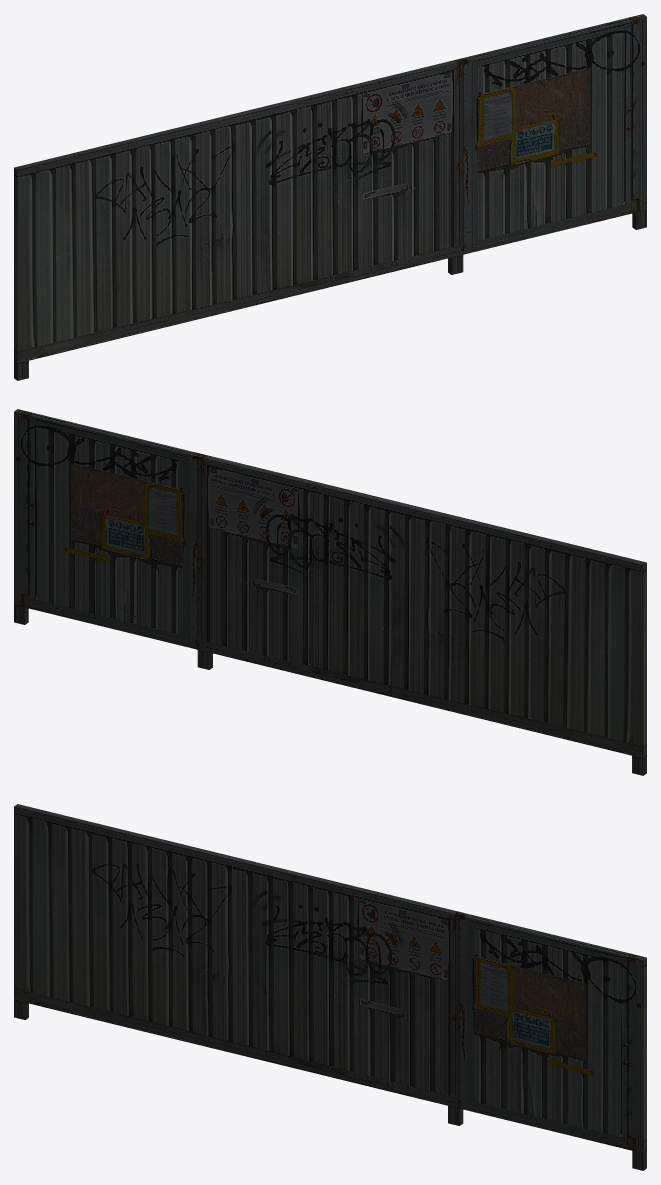
File: gate_1.glb
3 renders of one model, top to bottom at view 1: azimuth 30°, elevation 25°; view 2: azimuth 150°, elevation 25°; view 3: azimuth 330°, elevation 25°, orthographic.
Parts seen in each view (by area): view 1: gate_1; view 2: gate_1; view 3: gate_1.
Boxes of the visible parts, x1=… form: gate_1: x1=14, y1=14, x2=646, y2=380; gate_1: x1=14, y1=409, x2=646, y2=775; gate_1: x1=14, y1=804, x2=646, y2=1170.
Bounding box in the file's own units: 5 × 1.6 × 0.05.
Materials: 1 (1 with a texture image).
